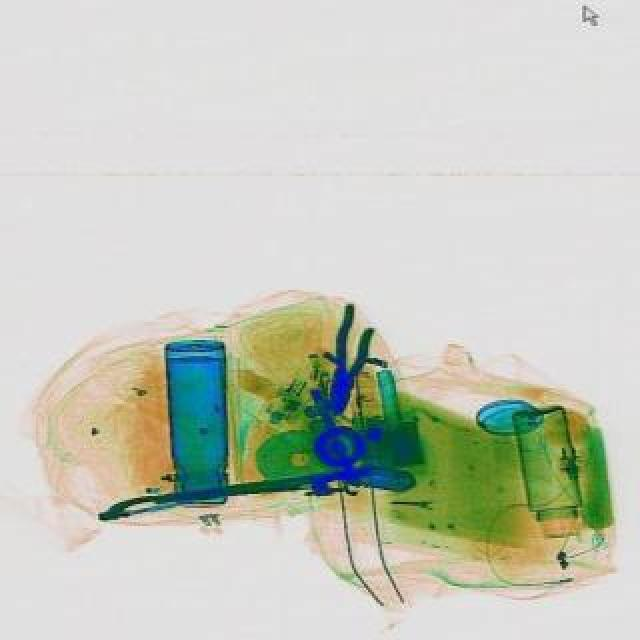wrench: (318, 302, 378, 416)
